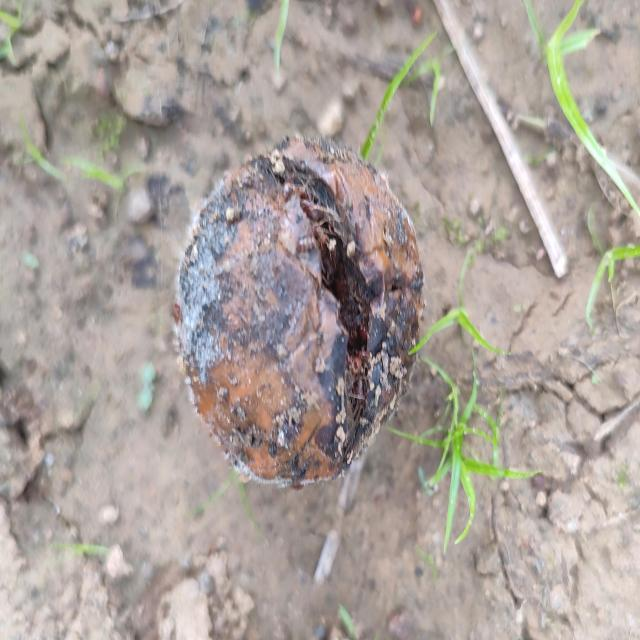damaged: (174, 136, 423, 487)
